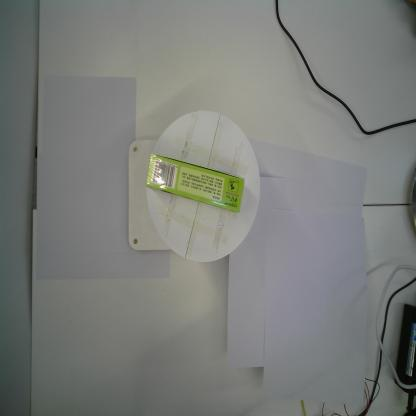Instant Drink: (145, 153, 245, 213)
